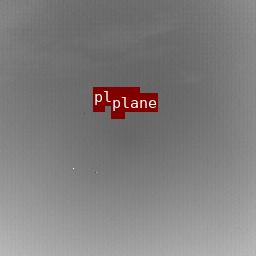plane: (111, 112, 124, 118), (93, 106, 104, 111)
